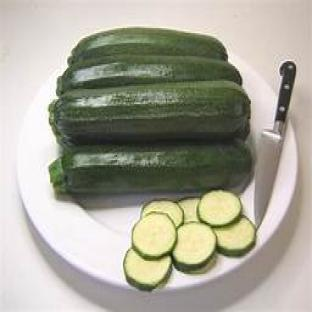Zucchini: (49, 81, 249, 145), (49, 141, 252, 193), (58, 55, 241, 94), (69, 29, 227, 64), (172, 223, 216, 272), (132, 213, 176, 259), (124, 250, 171, 290), (214, 217, 255, 257), (198, 190, 242, 226), (142, 200, 184, 227), (178, 199, 199, 222)
